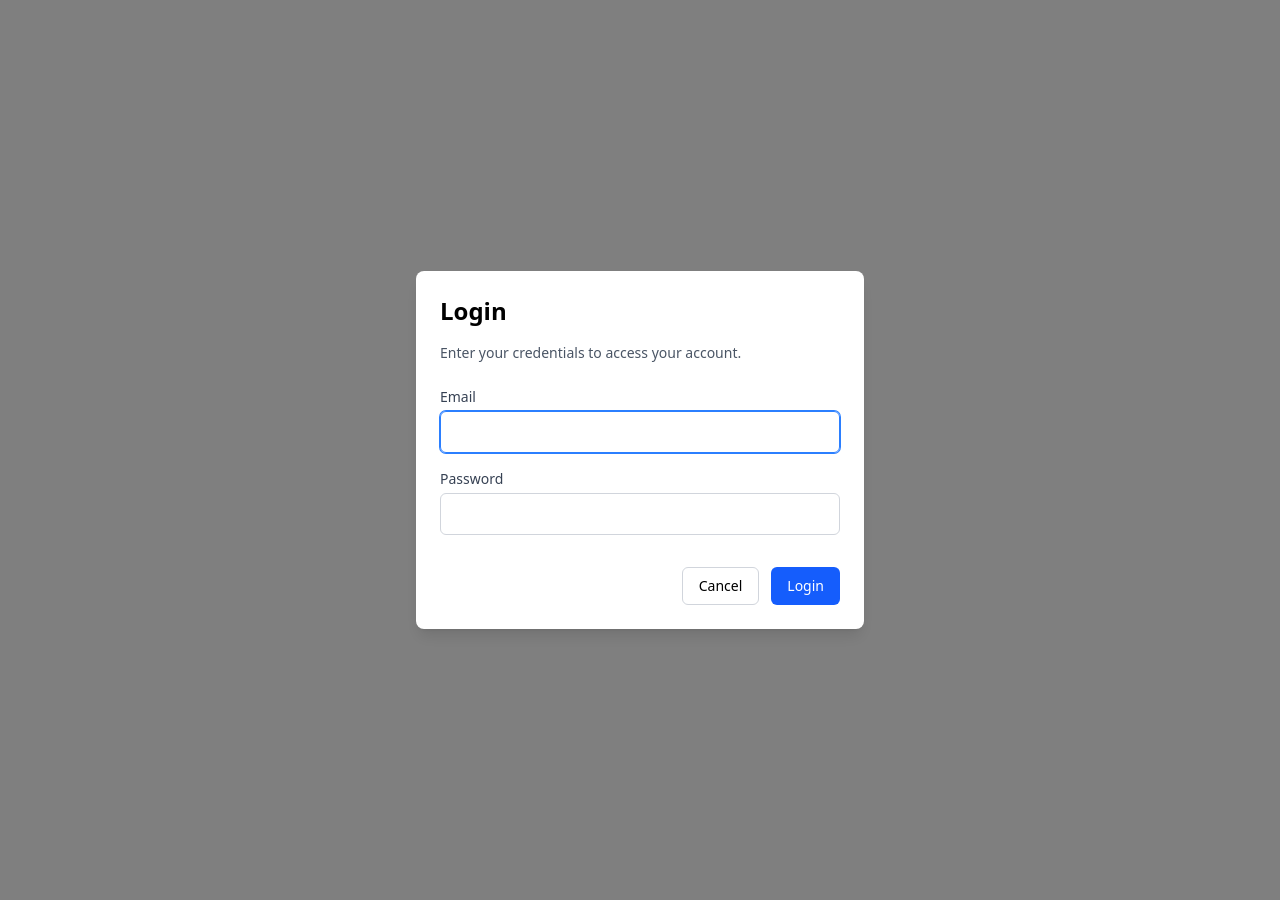
Test case: LoginDialog › validates empty password
Type "test@example.com" into the field labelled "Email". click: (640, 432)
box: [440, 411, 840, 453]
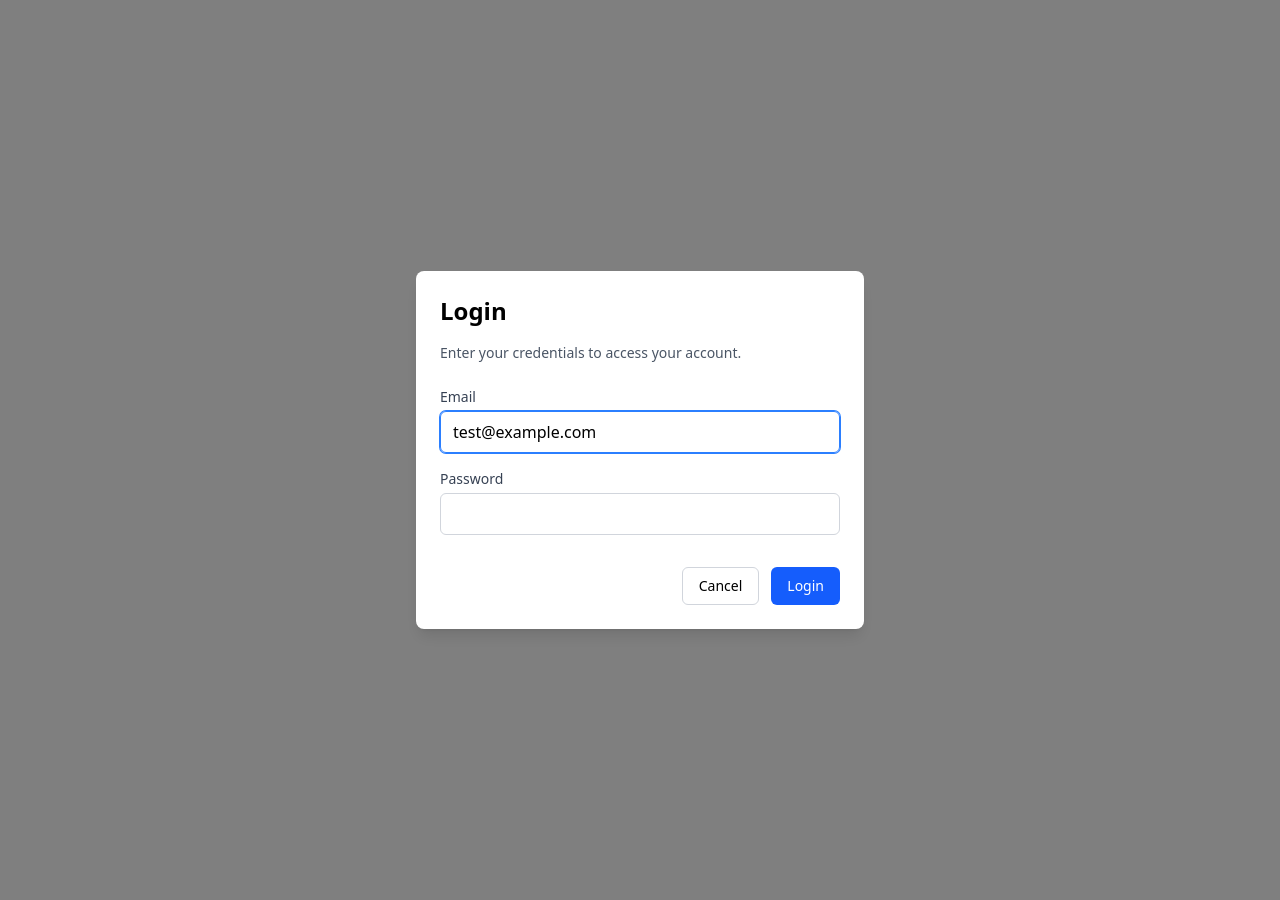
Click the button "Login". click: (806, 586)
box: [771, 567, 840, 605]
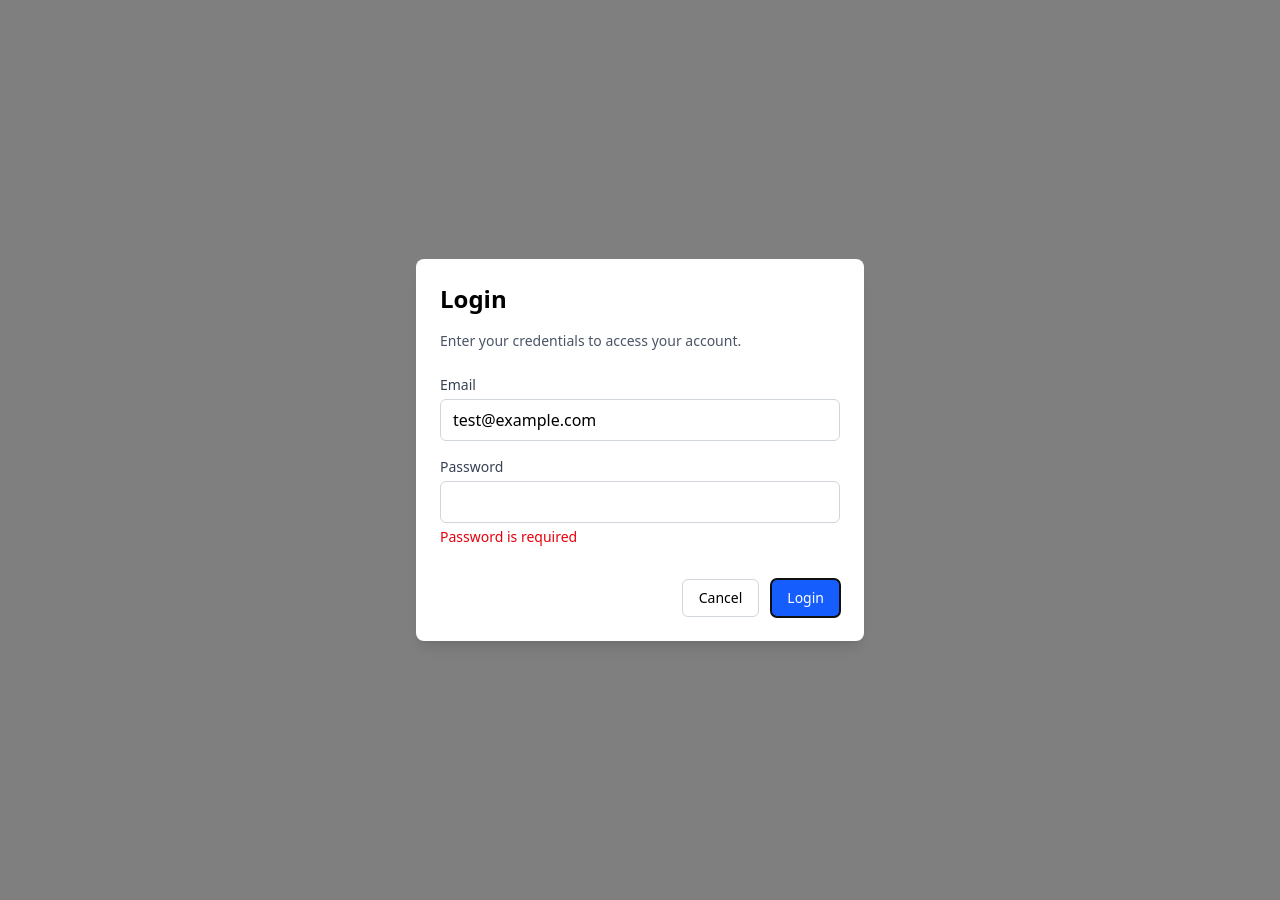
Check: the text "Password is required" is shown, box [440, 527, 577, 546]
